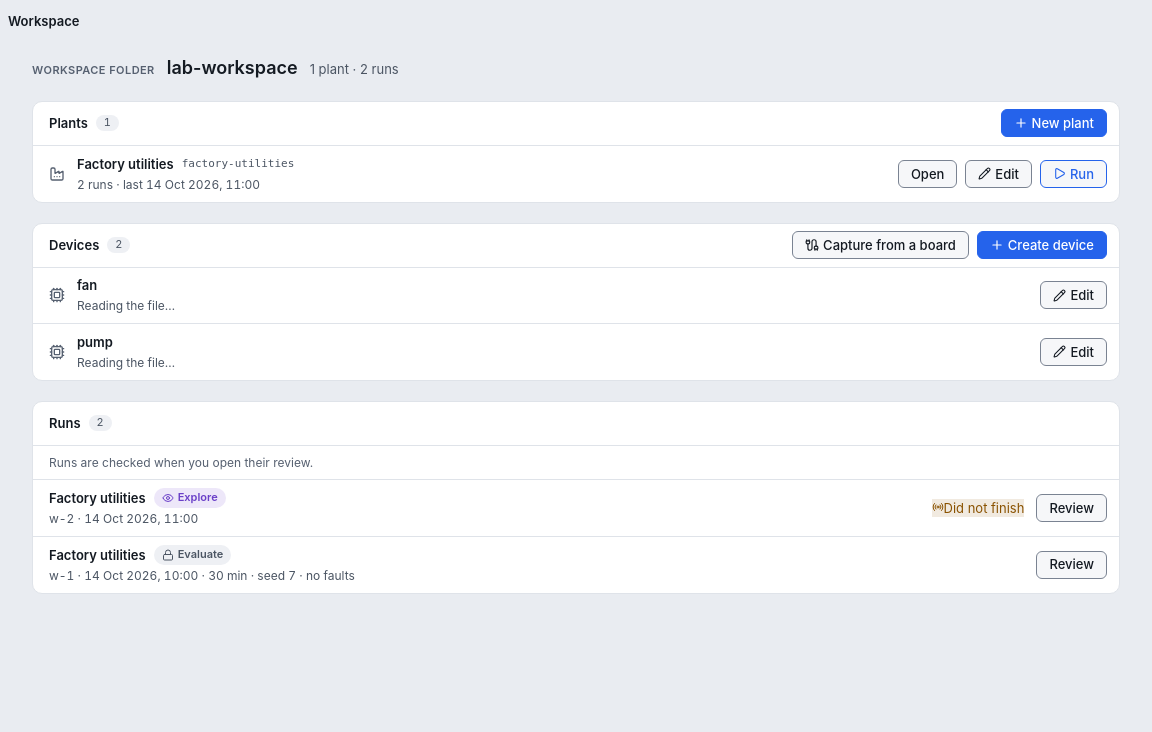
it: creating a device › opens a form, explains a name it cannot use, and keeps Create off until the name fits
The width and height of the screenshot is (1152, 732).
Click the button "Create device": (1042, 245) x1=977 y1=231 x2=1107 y2=259
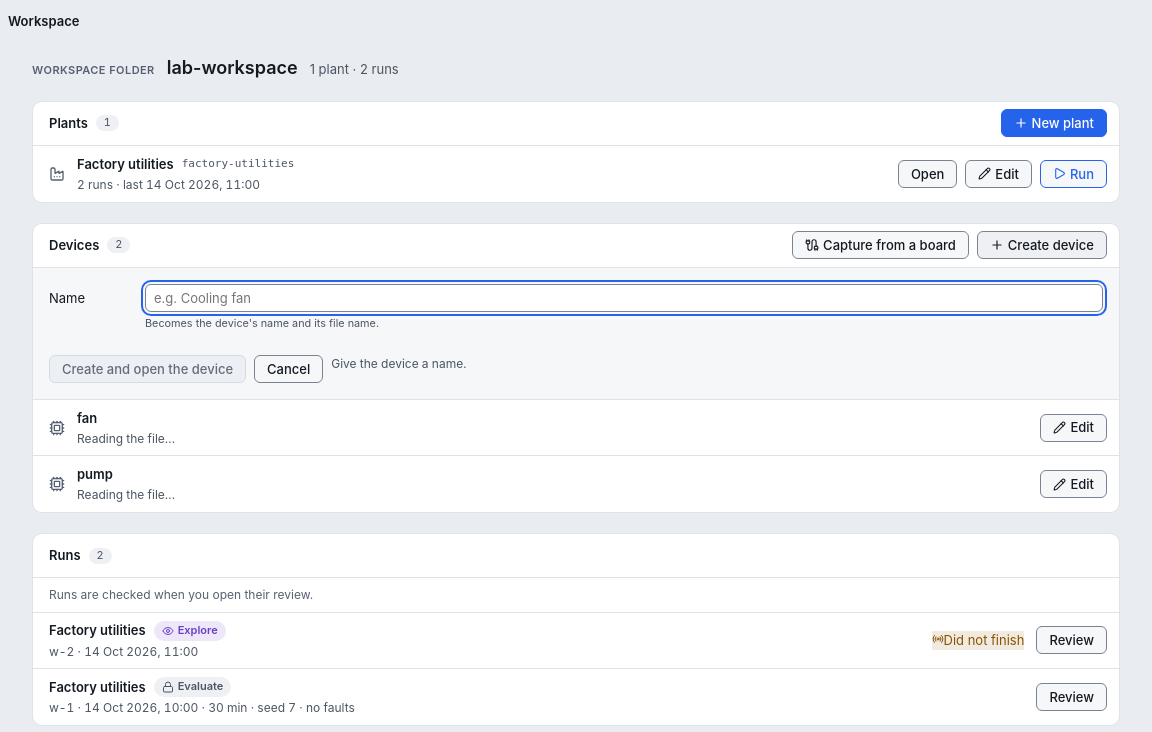
Result: the text "Give the device a name." is shown at x1=331 y1=356 x2=466 y2=371
In the field labelled "Name": (624, 298) x1=145 y1=284 x2=1103 y2=312, type "FAN"
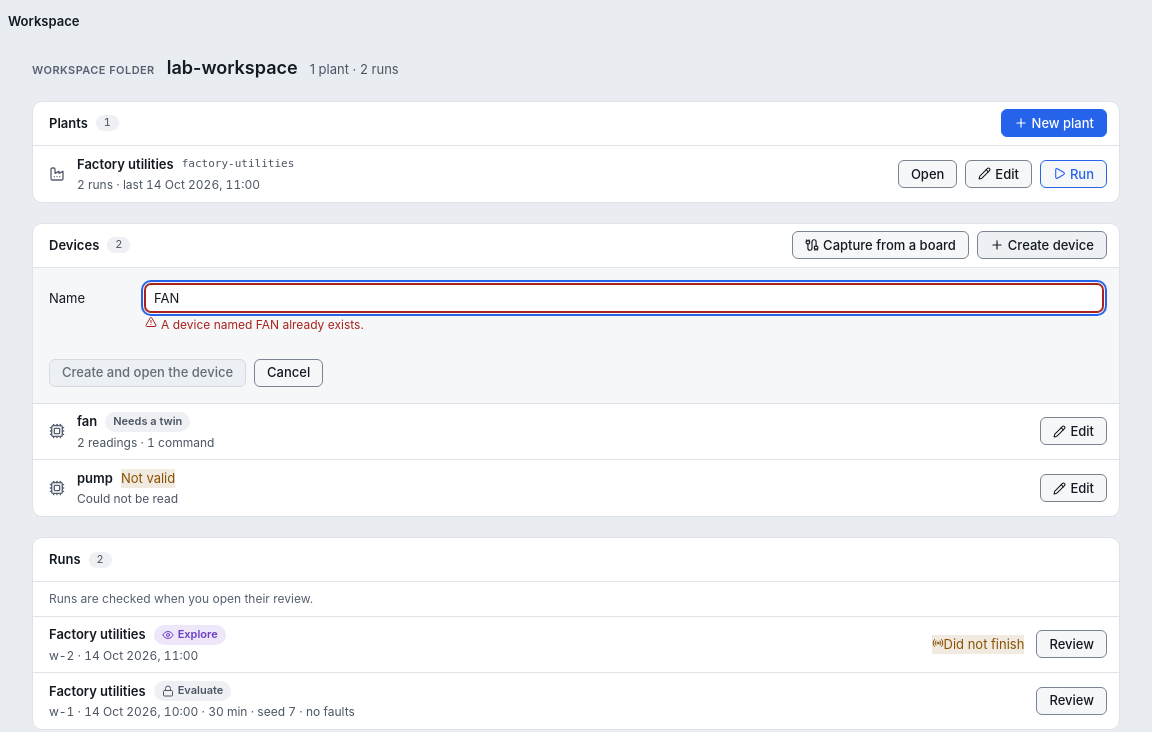
Result: the text "A device named FAN already exists." is shown at x1=145 y1=316 x2=364 y2=332
